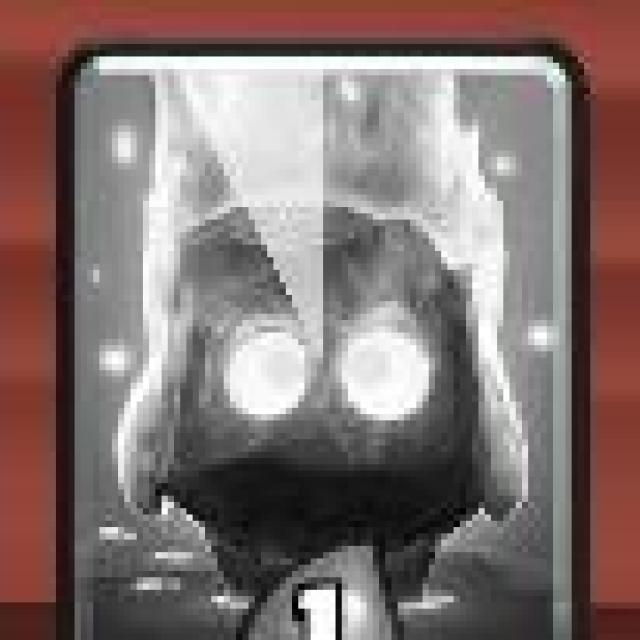Fire_Spirit: (60, 36, 590, 640)
